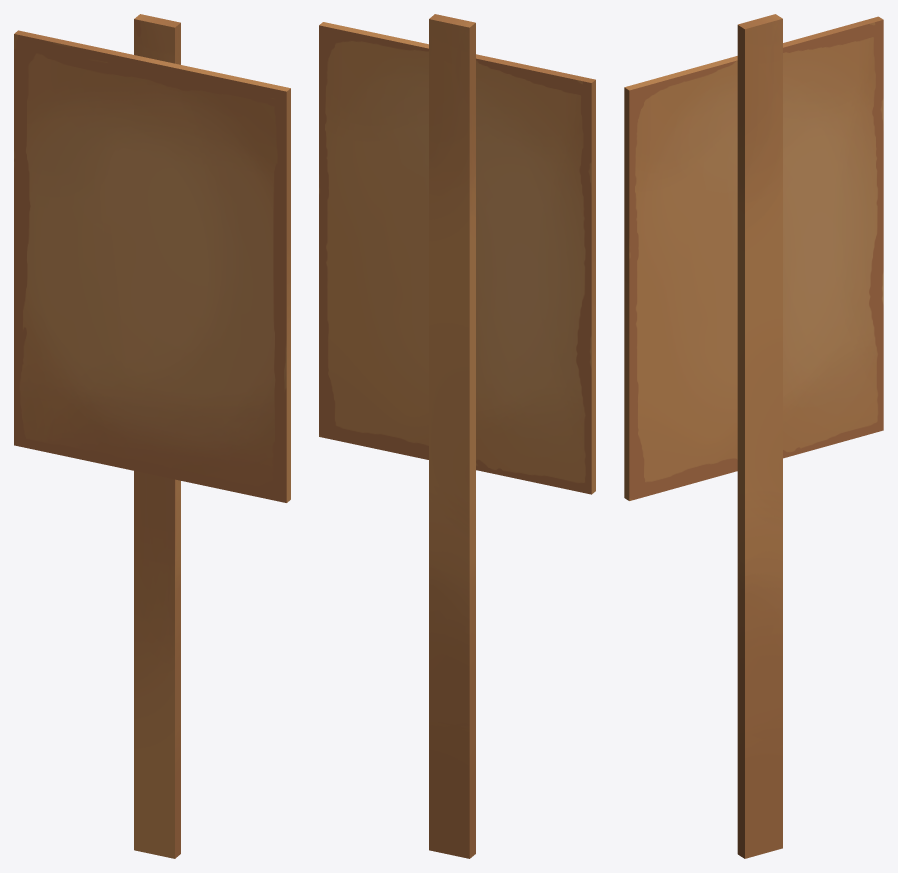
Rendered from sign.fbx.
3 renders of one model, left to right at view 1: azimuth 30°, elevation 25°; view 2: azimuth 210°, elevation 25°; view 3: azimuth 270°, elevation 25°, orthographic.
Visible parts, largest first — view 1: signs; view 2: signs; view 3: signs.
Boxes of the visible parts, <box> form: signs: <box>14,14,290,858</box>; signs: <box>319,14,595,858</box>; signs: <box>624,14,883,858</box>.
Size of the model in its own units: 142 by 741 by 210.
